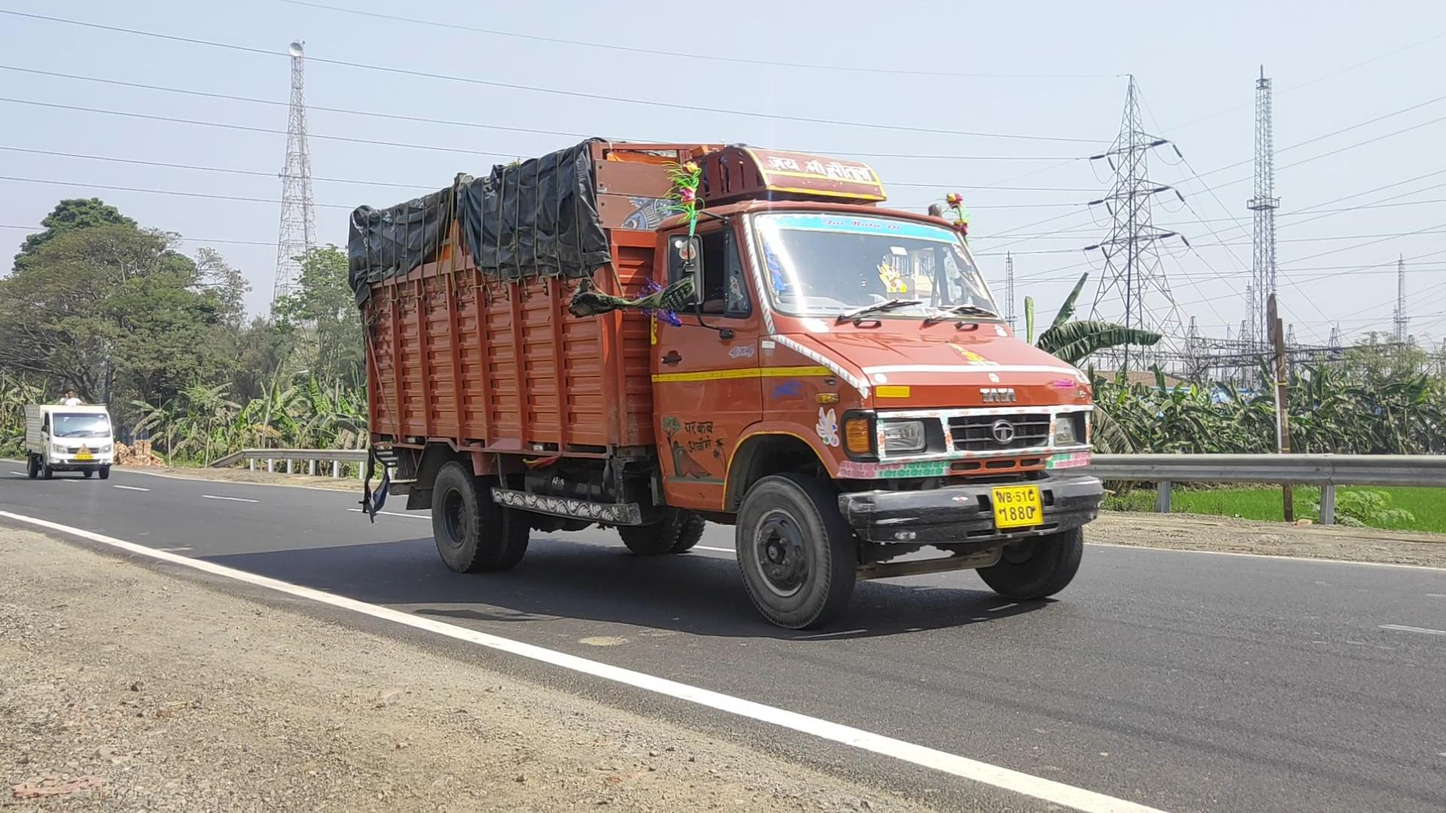truck: (349, 139, 1107, 633)
van: (25, 389, 114, 481)
